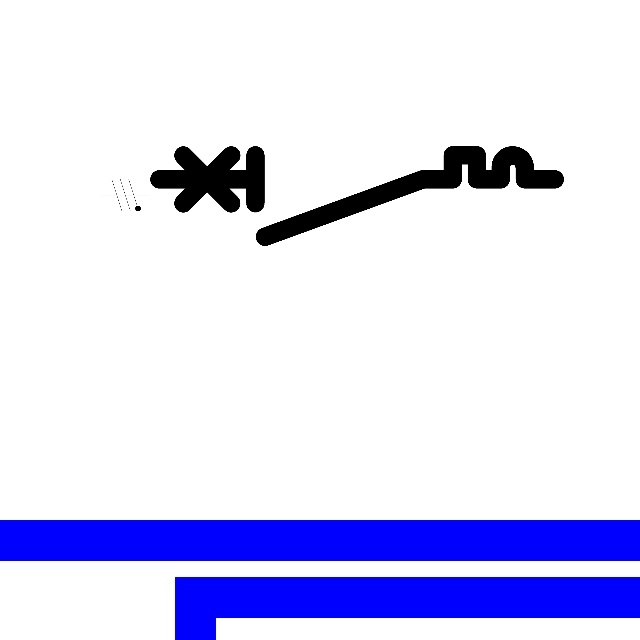interruptor_termomagnetico: (149, 145, 565, 247)
